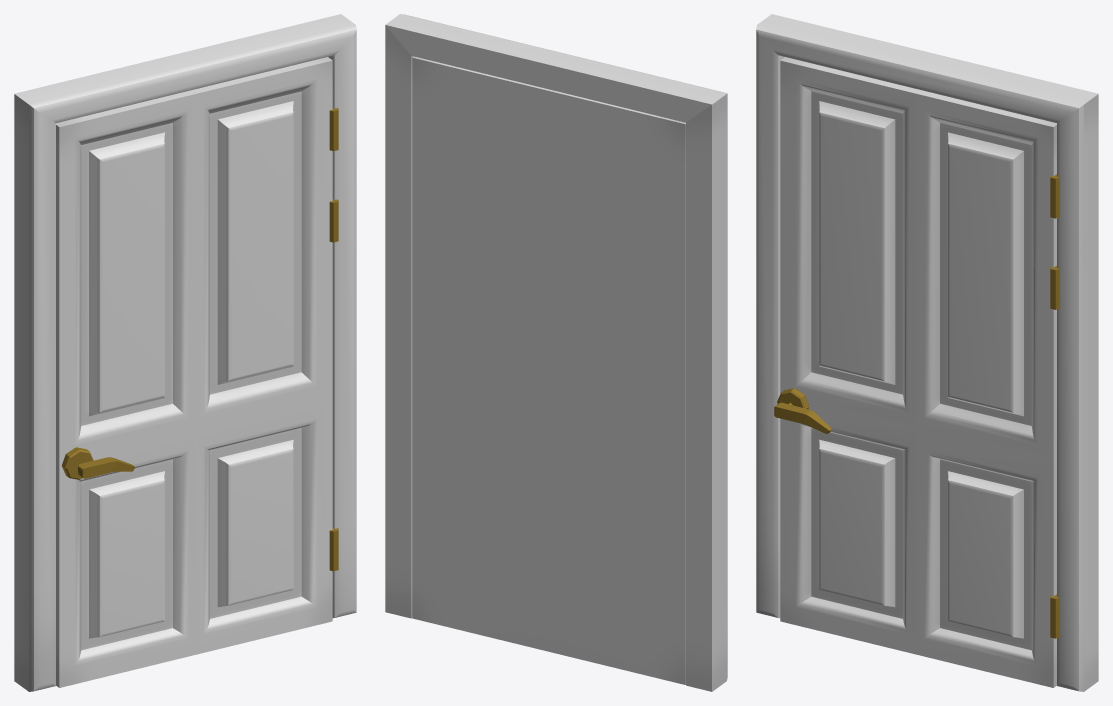
Rendered from room_door.fbx.
3 renders of one model, left to right at view 1: azimuth 30°, elevation 25°; view 2: azimuth 150°, elevation 25°; view 3: azimuth 330°, elevation 25°, orthographic.
Parts seen in each view (by area): view 1: room_door; view 2: room_door; view 3: room_door.
Part boxes in pixels (x1,y1,x2,y2): room_door: [14, 14, 356, 691]; room_door: [385, 14, 727, 691]; room_door: [756, 14, 1098, 691].
Size of the model in its own units: 92.27 by 158 by 16.41.
Materials: 1 (1 with a texture image).
